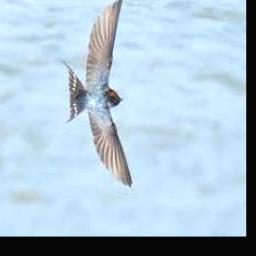Swallow: (59, 0, 131, 187)
